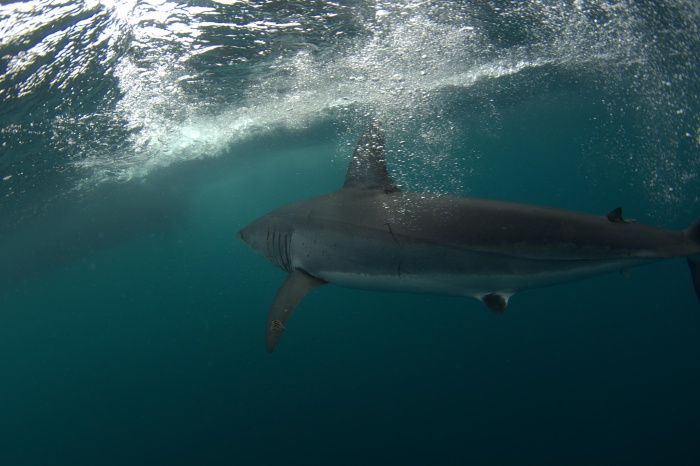Mako: (218, 109, 700, 372)
